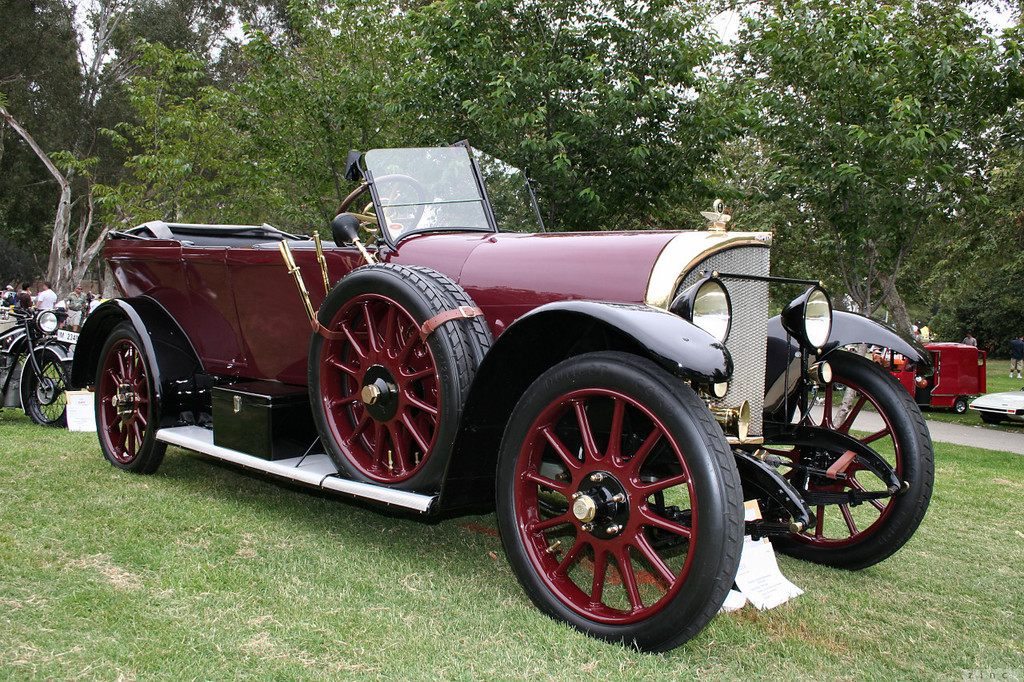Car: (87, 155, 953, 630), (967, 385, 1023, 426)
